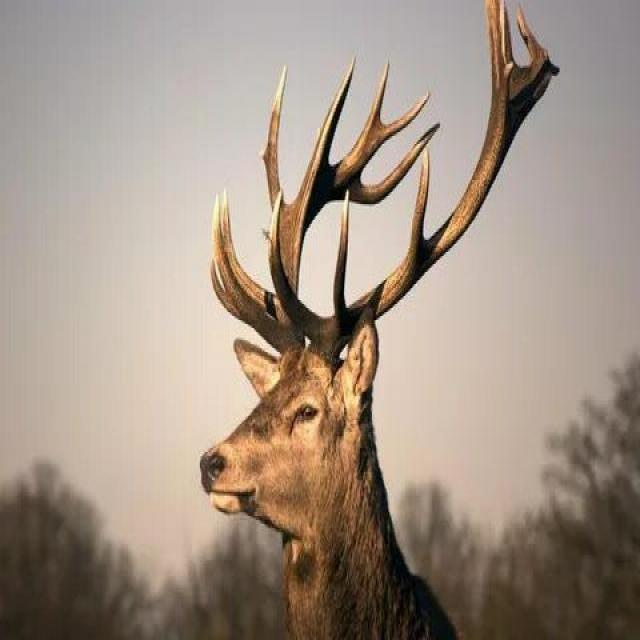deer: (100, 78, 522, 613)
